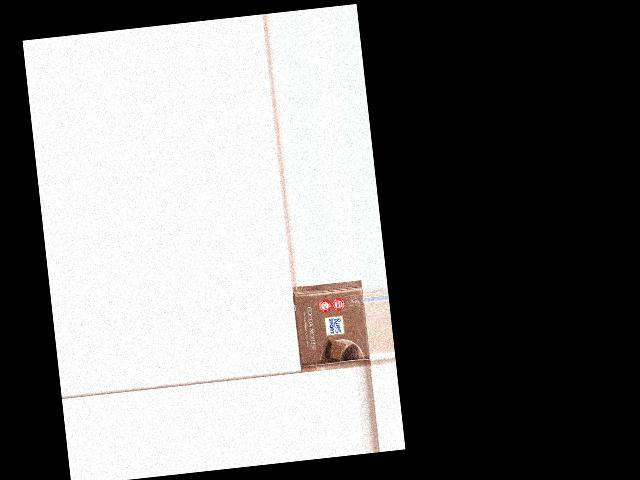chocolate: (291, 281, 370, 373)
